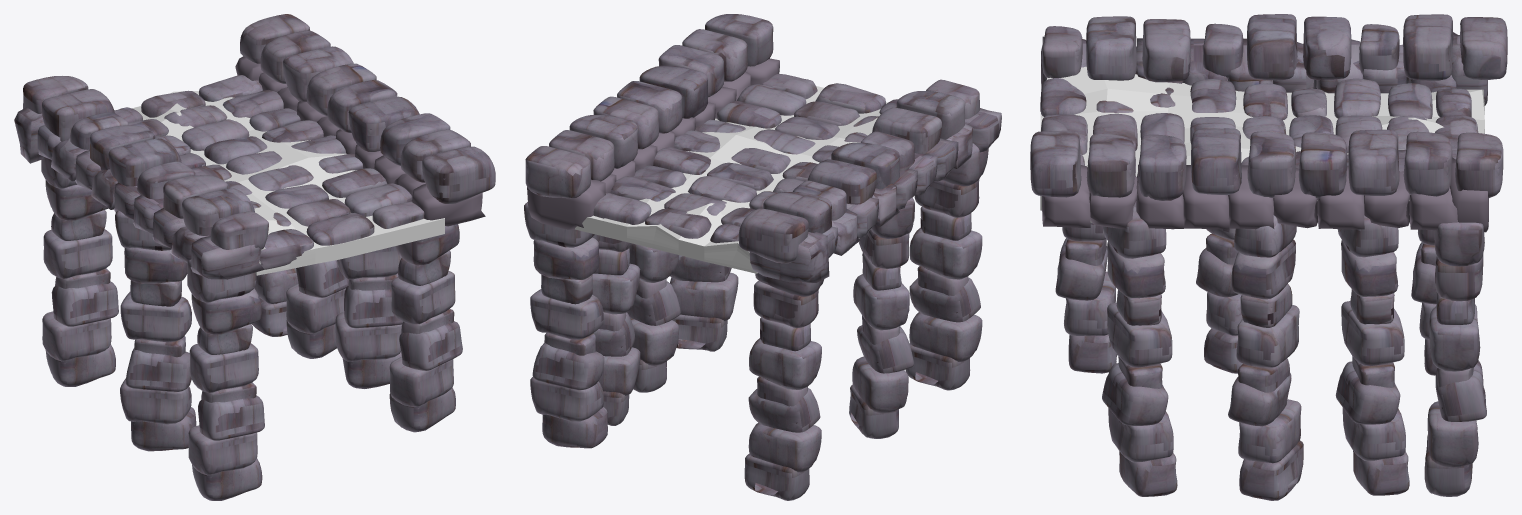
Rendered from road1.fbx.
3 renders of one model, left to right at view 1: azimuth 30°, elevation 25°; view 2: azimuth 150°, elevation 25°; view 3: azimuth 270°, elevation 25°, orthographic. The views are drawn at different scales.
Parts seen in each view (by area): view 1: Plane; view 2: Plane; view 3: Plane.
Part boxes in pixels (box(x1,y1,x2,y2)): Plane: box(14, 14, 495, 500); Plane: box(524, 14, 1001, 500); Plane: box(1030, 14, 1507, 500).
Bounding box in the file's own units: 991 × 955 × 1190.
